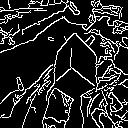cube: (45, 33, 112, 106)
